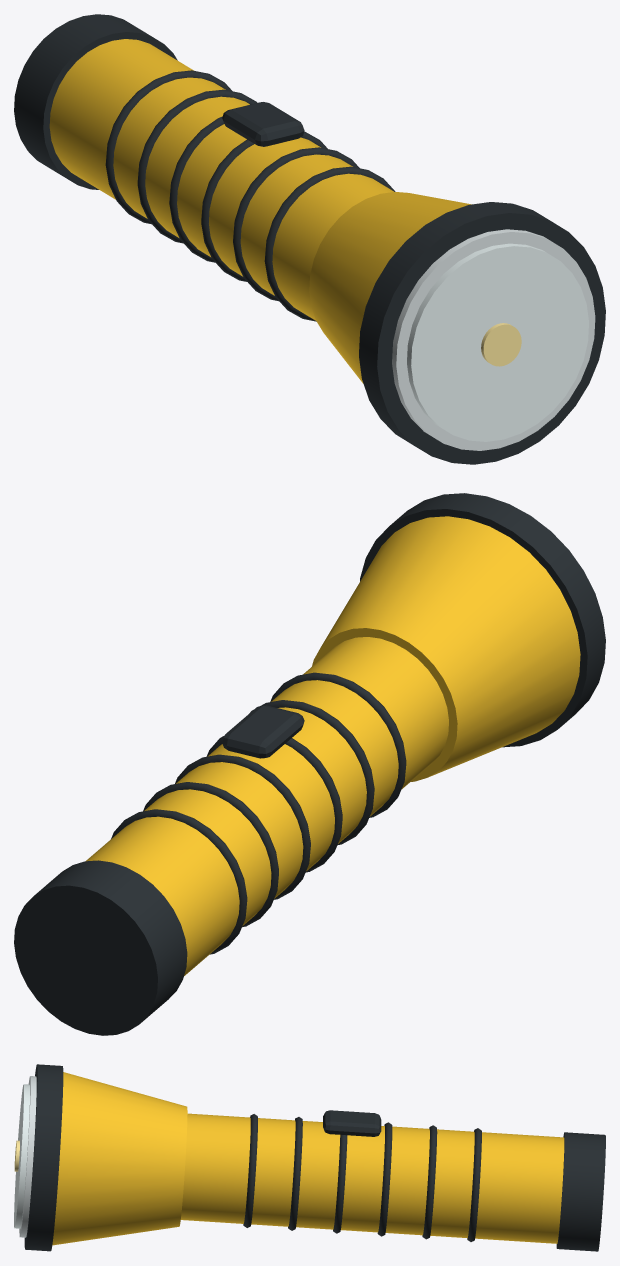
The model's file is flashlight.glb.
3 renders of one model, top to bottom at view 1: azimuth 30°, elevation 25°; view 2: azimuth 150°, elevation 25°; view 3: azimuth 270°, elevation 25°, orthographic. The views are drawn at different scales.
Parts seen in each view (by area): view 1: Cylindrical flashlight body, Pale front lens, Black front bezel, Flared flashlight head, Rubber tail cap, Reflector rim, Rubber power switch, Raised rubber grip ring, Raised rubber grip ring.001, Raised rubber grip ring.005, Raised rubber grip ring.004, Raised rubber grip ring.002 (+2 smaller); view 2: Cylindrical flashlight body, Flared flashlight head, Rubber tail cap, Black front bezel, Rubber power switch, Raised rubber grip ring, Raised rubber grip ring.005, Raised rubber grip ring.003, Raised rubber grip ring.004, Raised rubber grip ring.001, Raised rubber grip ring.002; view 3: Cylindrical flashlight body, Flared flashlight head, Black front bezel, Rubber tail cap, Rubber power switch, Pale front lens, Reflector rim, Raised rubber grip ring.003, Raised rubber grip ring, Raised rubber grip ring.005, Raised rubber grip ring.001, Raised rubber grip ring.004 (+1 smaller).
Boxes of the visible parts, <box> form: Cylindrical flashlight body: <box>49,39,393,320</box>; Pale front lens: <box>407,243,588,441</box>; Black front bezel: <box>359,202,605,464</box>; Flared flashlight head: <box>309,192,471,383</box>; Rubber tail cap: <box>14,14,177,189</box>; Reflector rim: <box>392,229,595,450</box>; Rubber power switch: <box>222,102,304,146</box>; Raised rubber grip ring: <box>264,166,395,321</box>; Raised rubber grip ring.001: <box>233,147,359,301</box>; Raised rubber grip ring.005: <box>105,70,232,224</box>; Raised rubber grip ring.004: <box>137,89,257,243</box>; Raised rubber grip ring.002: <box>201,131,327,281</box>; Cylindrical flashlight body: <box>86,637,448,975</box>; Flared flashlight head: <box>312,516,580,781</box>; Rubber tail cap: <box>14,860,187,1035</box>; Black front bezel: <box>360,493,605,747</box>; Rubber power switch: <box>222,705,304,758</box>; Raised rubber grip ring: <box>270,672,406,817</box>; Raised rubber grip ring.005: <box>111,809,247,954</box>; Raised rubber grip ring.003: <box>175,754,310,899</box>; Raised rubber grip ring.004: <box>143,782,278,927</box>; Raised rubber grip ring.001: <box>249,700,374,845</box>; Raised rubber grip ring.002: <box>206,735,342,872</box>; Cylindrical flashlight body: <box>180,1113,564,1243</box>; Flared flashlight head: <box>52,1072,187,1245</box>; Black front bezel: <box>24,1064,63,1251</box>; Rubber tail cap: <box>556,1132,605,1251</box>; Rubber power switch: <box>323,1110,381,1136</box>; Pale front lens: <box>14,1084,29,1228</box>; Reflector rim: <box>19,1076,36,1237</box>; Raised rubber grip ring.003: <box>377,1122,392,1236</box>; Raised rubber grip ring: <box>243,1114,257,1227</box>; Raised rubber grip ring.005: <box>467,1128,481,1241</box>; Raised rubber grip ring.001: <box>288,1117,302,1230</box>; Raised rubber grip ring.004: <box>422,1125,437,1239</box>.
Bounding box in the file's own units: 0.108 × 0.111 × 0.3438.
